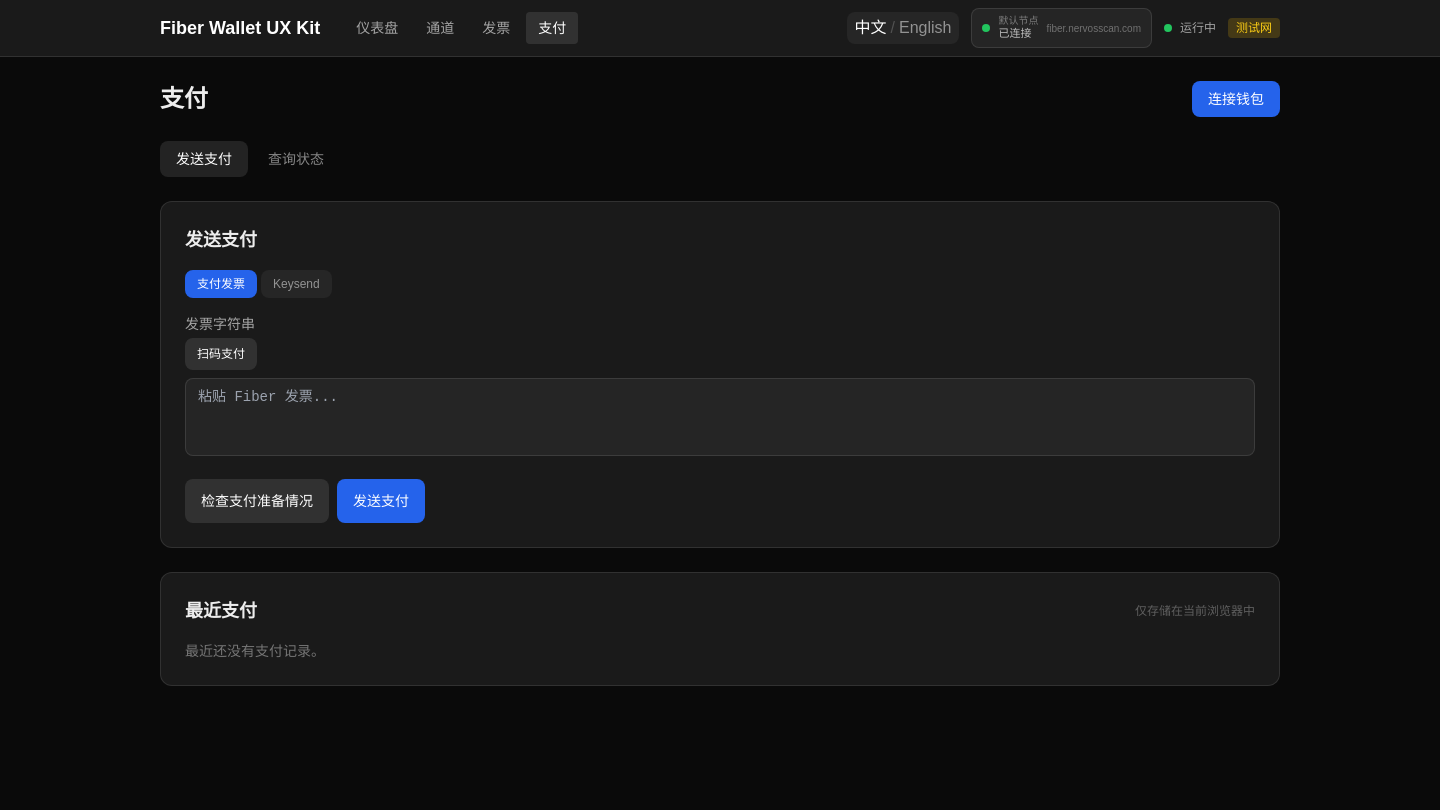
Test case: Mobile payments page › shows a friendly retry hint when payment route is not ready
Type "fibt1route-not-ready" into the text box with placeholder "粘贴 Fiber 发票..." at (720, 417), box [185,378,1255,456]
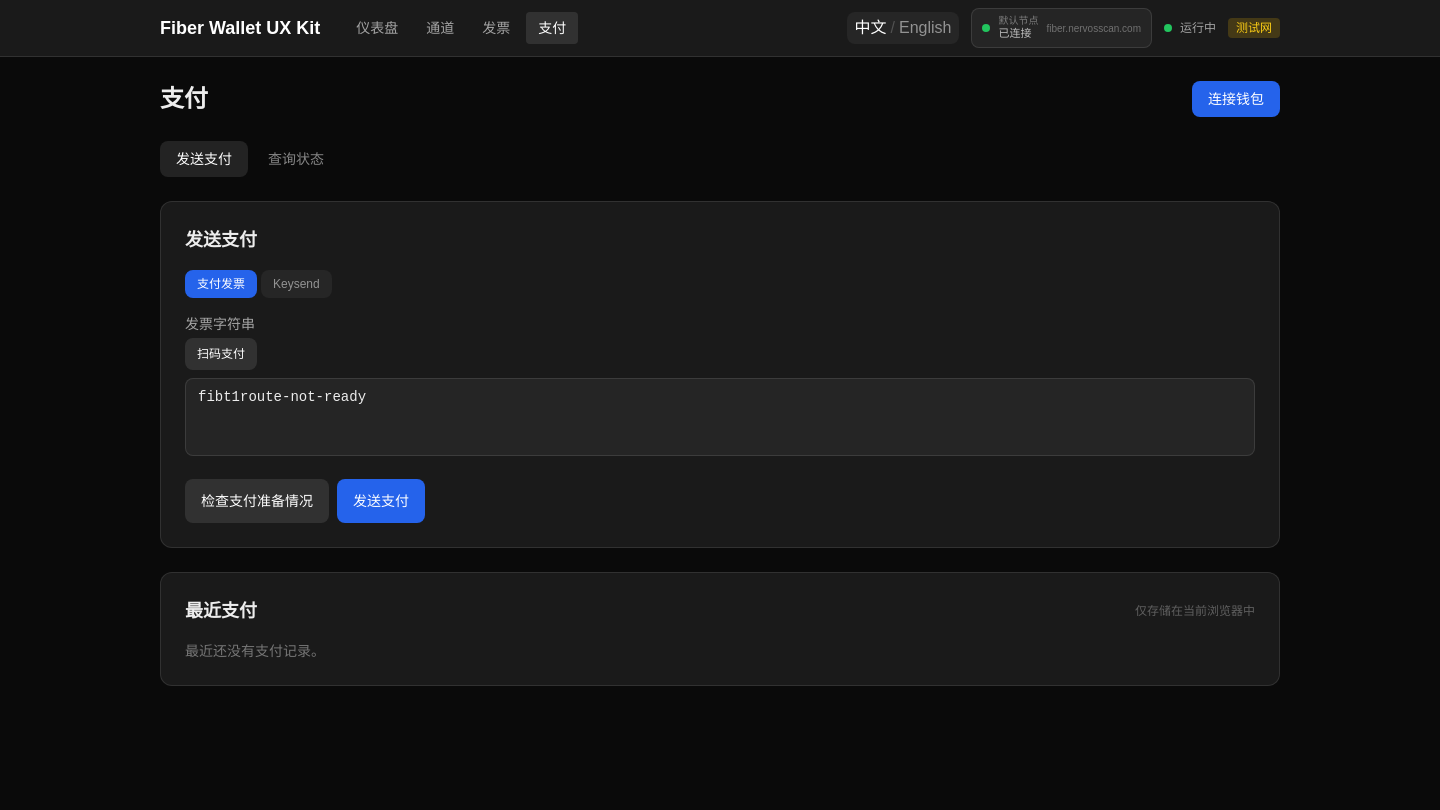
Click the button "发送支付" below "发票字符串" at (381, 501), box [337,479,425,523]
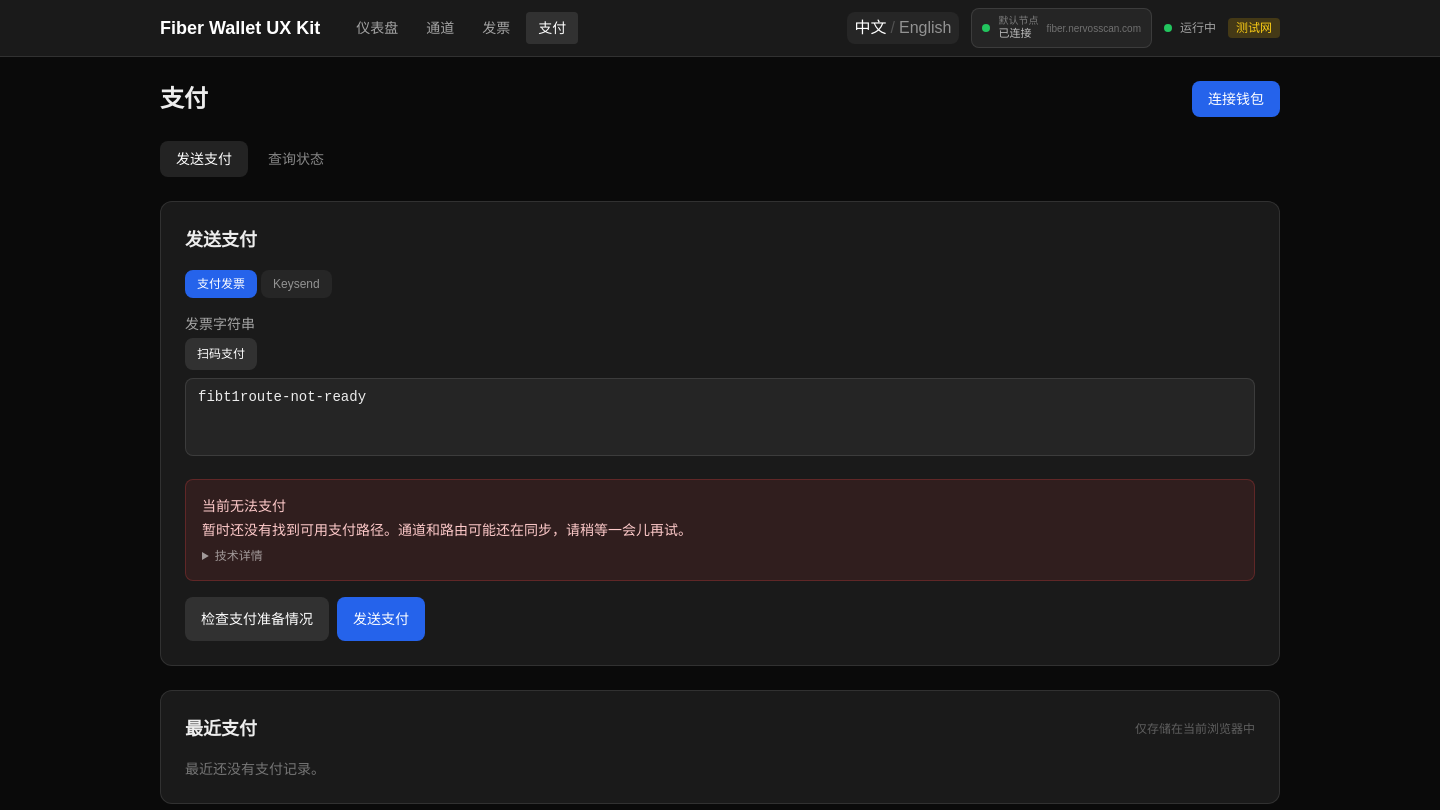
Expected: the text "暂时还没有找到可用支付路径。通道和路由可能还在同步，请稍等一会儿再试。" is shown, [202,522,692,538]
